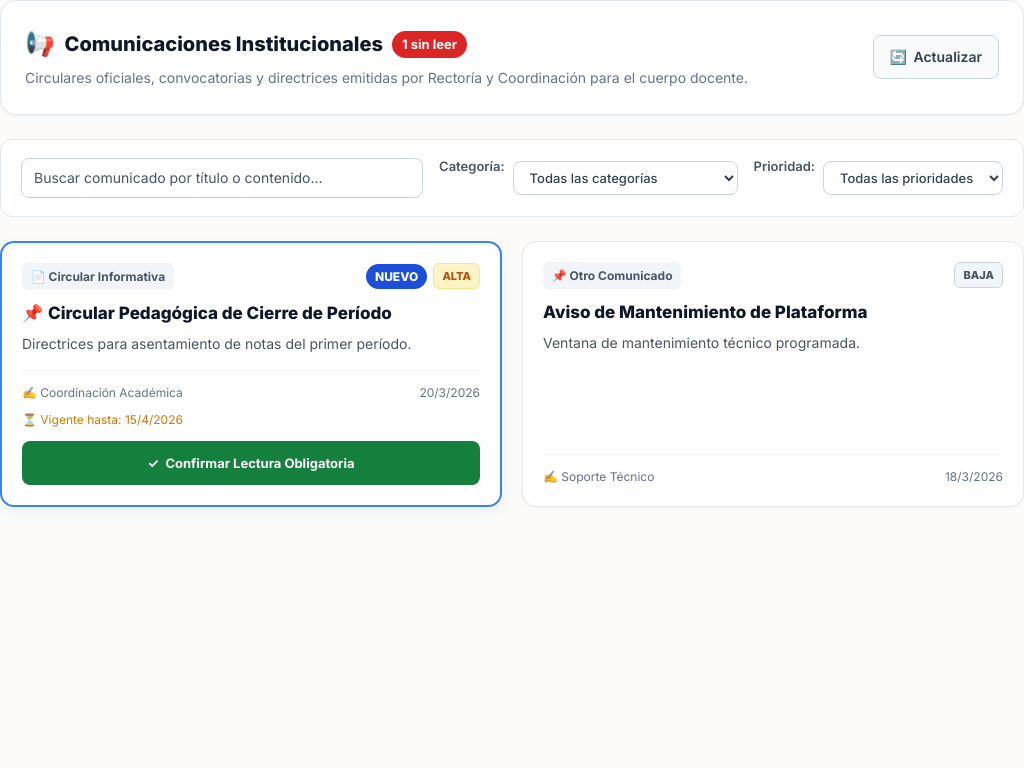
Scenario: Teacher Communications View (Phase B2) › opens detail modal and displays full content and metadata
Expected: the heading "Circular Pedagógica de Cierre de Período" is shown, [48, 303, 392, 323]
Click to open detail modal
Click the heading "Circular Pedagógica de Cierre de Período".
click(207, 313)  # box [22, 303, 392, 323]
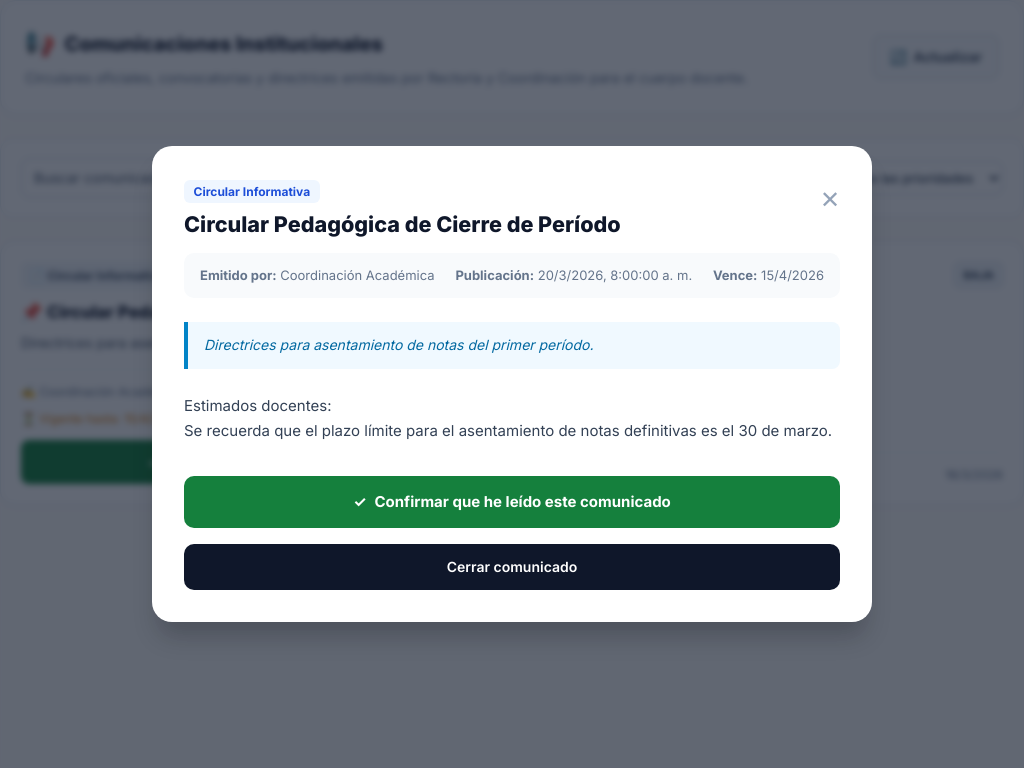
Result: the button "Cerrar comunicado" is shown
Result: the text "Se recuerda que el plazo límite para el asentamiento de notas" is shown at [184, 396, 832, 440]
Close modal
Click the button "Cerrar comunicado".
click(512, 567)  # box [184, 544, 840, 590]
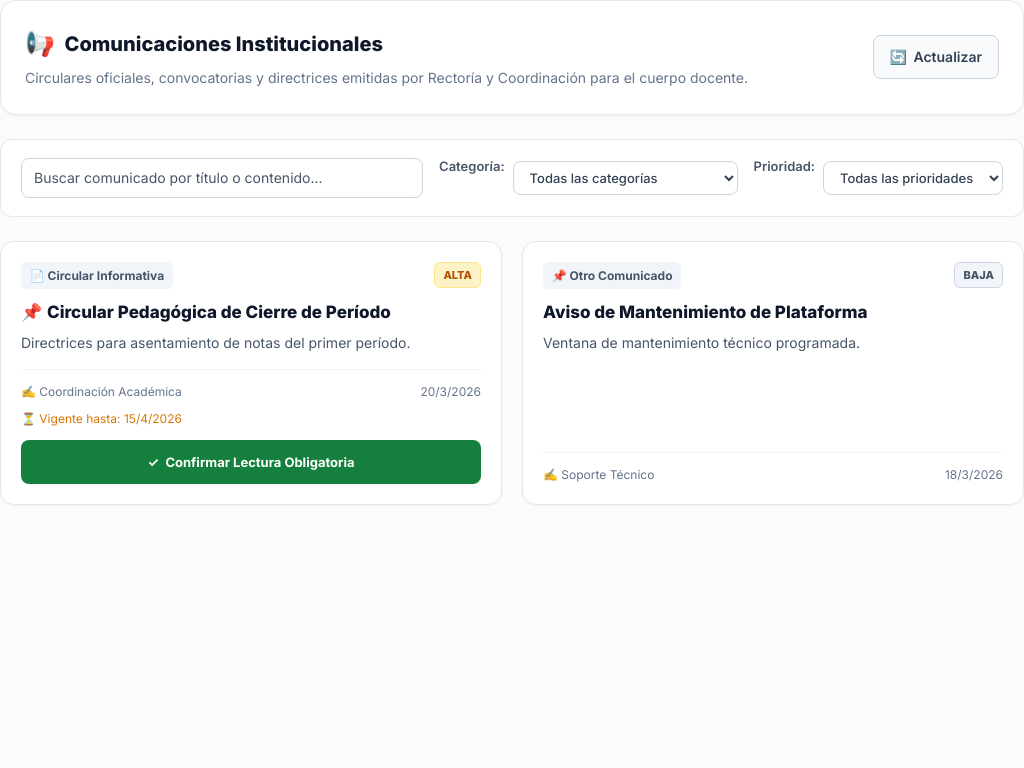
Result: the button "Cerrar comunicado" is gone
